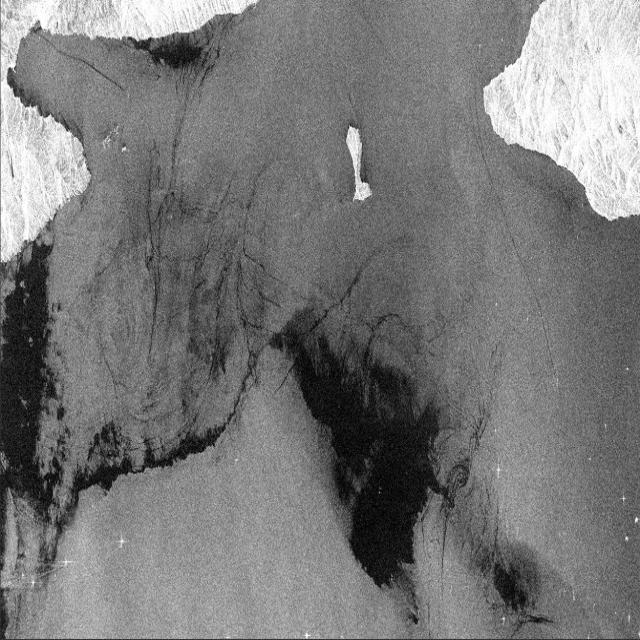look-alike: (275, 242, 459, 630), (138, 174, 267, 486), (0, 257, 81, 520)
oil-spill: (470, 56, 520, 272), (33, 27, 126, 103), (522, 276, 561, 388)
ship: (110, 530, 132, 556), (60, 550, 75, 574), (494, 452, 503, 484), (298, 625, 313, 640), (618, 489, 628, 511)
